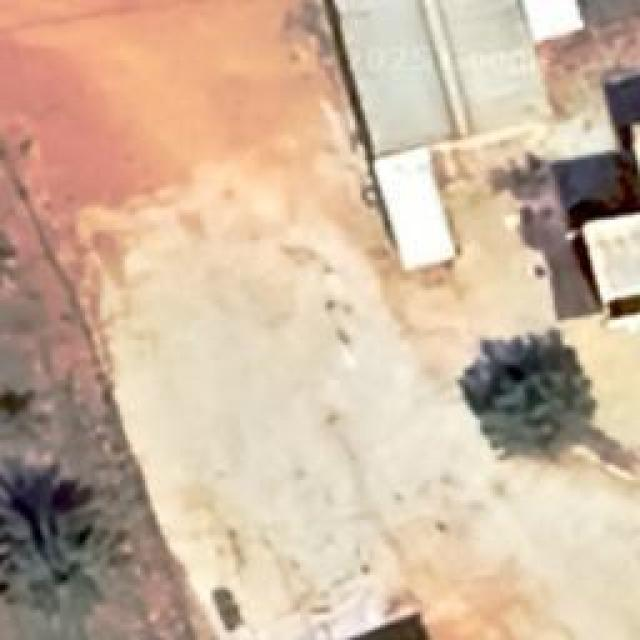PalmTree: (470, 328, 595, 468), (5, 492, 130, 610)
